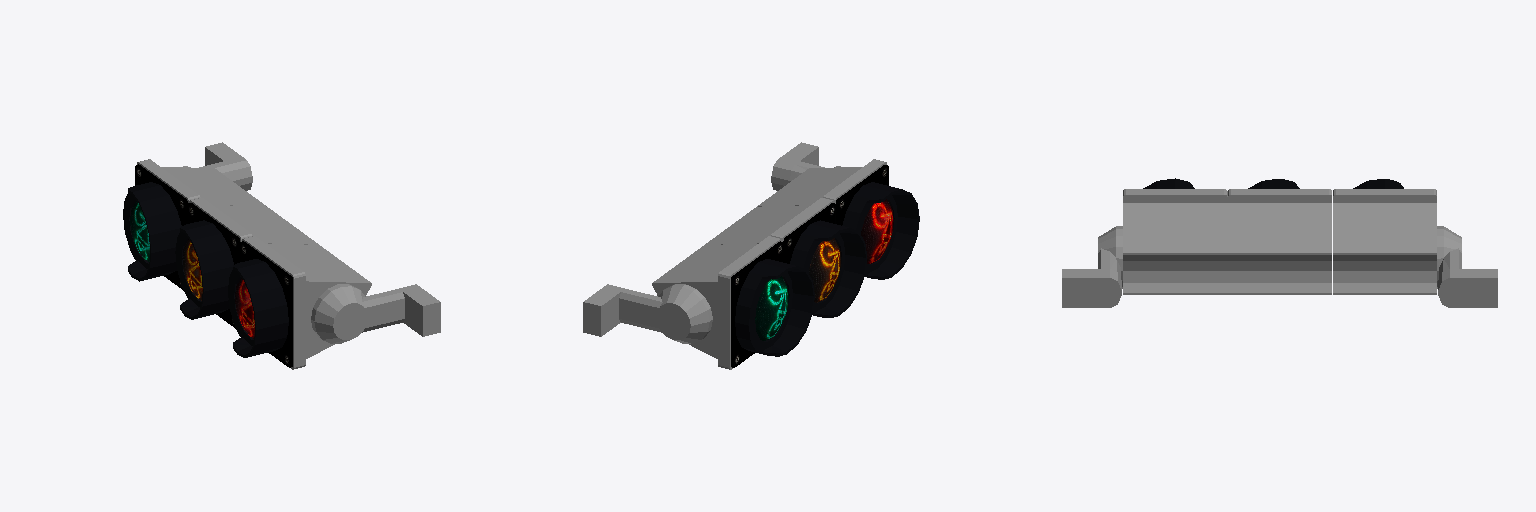
3 renders of one model, left to right at view 1: azimuth 30°, elevation 25°; view 2: azimuth 150°, elevation 25°; view 3: azimuth 270°, elevation 25°, orthographic.
Visible parts, largest first — view 1: Cube.003_Cube.002, Cube.006, BezierCurve.002_BezierCurve.005, BezierCurve.001_BezierCurve.004, BezierCurve.003_BezierCurve.006, Cube.004_Cube.002, Cube.001_Cube.002, Cube.005_Cube.006; view 2: Cube.004_Cube.002, BezierCurve.003_BezierCurve.006, Cube.005_Cube.006, BezierCurve.002_BezierCurve.005, BezierCurve.001_BezierCurve.004, Cube.003_Cube.002, Cube.001_Cube.002, Cube.006; view 3: Cube.003_Cube.002, Cube.004_Cube.002, Cube.001_Cube.002, Cube.006, Cube.005_Cube.006.
Part boxes in pixels (left/top/right/bottom): Cube.003_Cube.002: left=240, top=236, right=371, bottom=369; Cube.006: left=311, top=284, right=440, bottom=343; BezierCurve.002_BezierCurve.005: left=228, top=259, right=288, bottom=357; BezierCurve.001_BezierCurve.004: left=175, top=220, right=233, bottom=319; BezierCurve.003_BezierCurve.006: left=123, top=182, right=181, bottom=281; Cube.004_Cube.002: left=135, top=159, right=266, bottom=290; Cube.001_Cube.002: left=188, top=198, right=318, bottom=328; Cube.005_Cube.006: left=183, top=142, right=252, bottom=190; Cube.004_Cube.002: left=652, top=236, right=783, bottom=369; BezierCurve.003_BezierCurve.006: left=735, top=259, right=814, bottom=356; Cube.005_Cube.006: left=583, top=284, right=712, bottom=343; BezierCurve.002_BezierCurve.005: left=842, top=182, right=919, bottom=279; BezierCurve.001_BezierCurve.004: left=790, top=220, right=866, bottom=317; Cube.003_Cube.002: left=757, top=159, right=888, bottom=225; Cube.001_Cube.002: left=705, top=198, right=835, bottom=263; Cube.006: left=771, top=142, right=840, bottom=190; Cube.003_Cube.002: left=1123, top=189, right=1227, bottom=294; Cube.004_Cube.002: left=1333, top=189, right=1436, bottom=294; Cube.001_Cube.002: left=1228, top=189, right=1331, bottom=294; Cube.006: left=1062, top=226, right=1122, bottom=307; Cube.005_Cube.006: left=1437, top=226, right=1497, bottom=307.
Bounding box in the file's own units: 0.2512 × 0.15 × 0.6251.
6 materials, 6 textured.